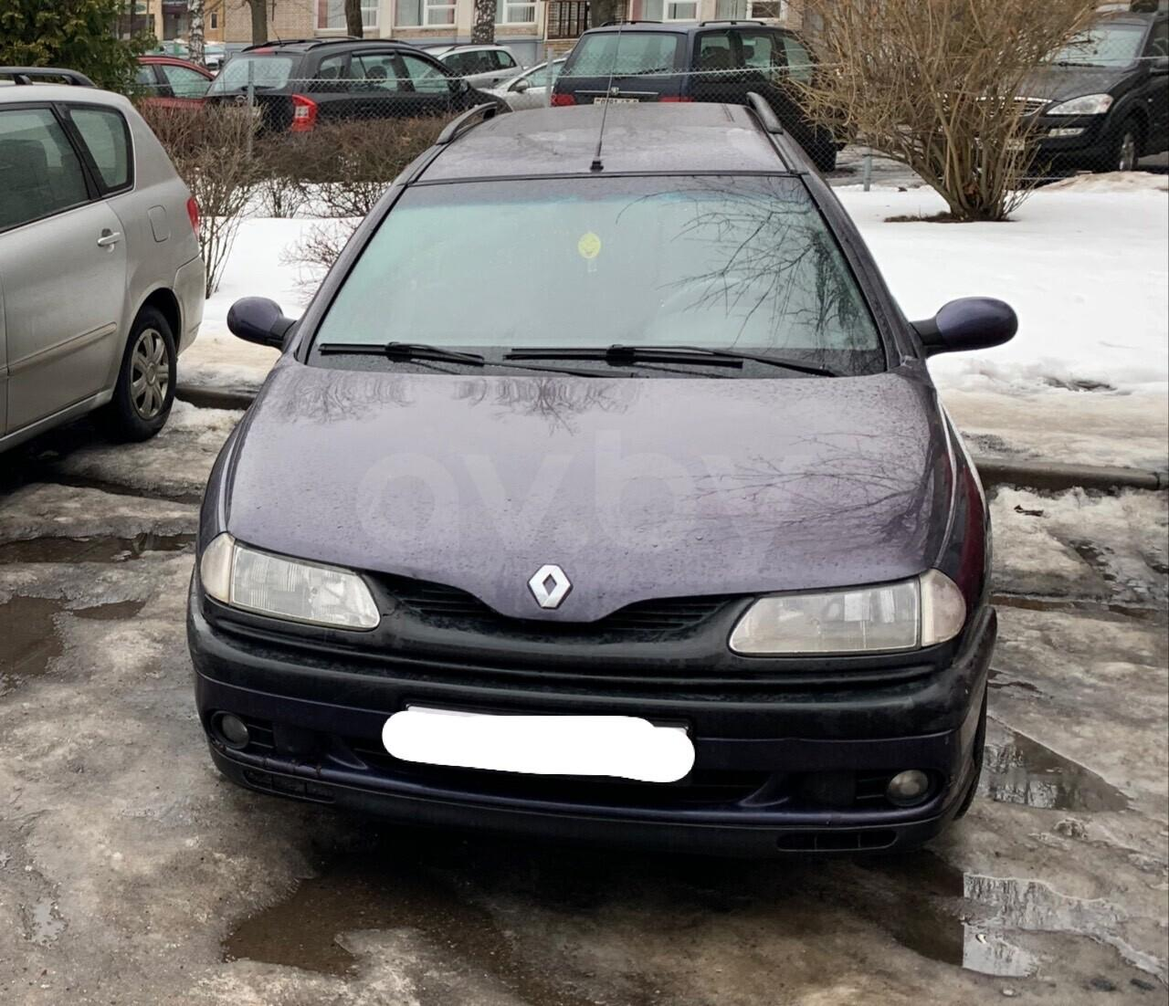Lahuna_1993-1999: (192, 91, 1028, 862)
